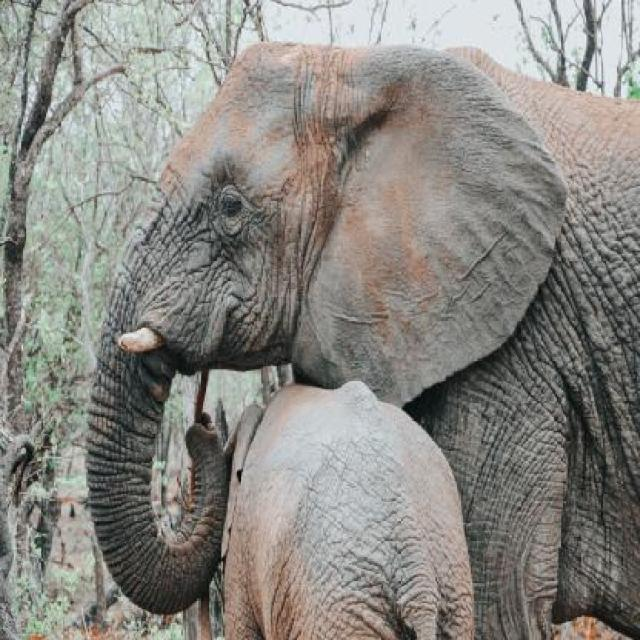Elephant: (83, 24, 639, 638)
